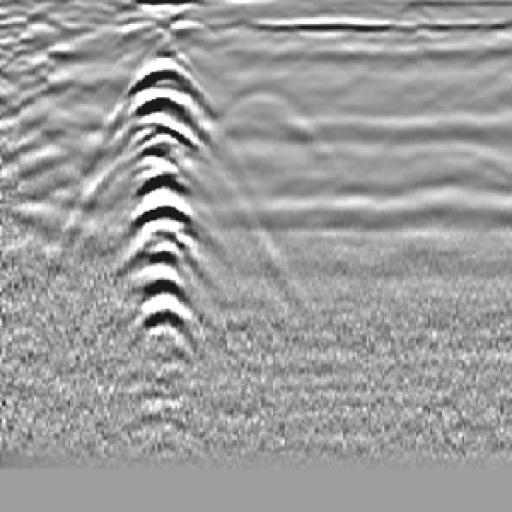metalic: (66, 35, 245, 426)
nonmetalic: (195, 63, 337, 164)
